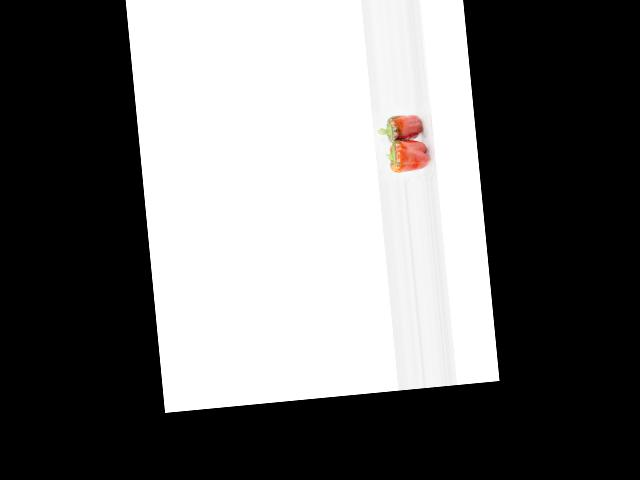bell_pepper: (382, 138, 431, 179)
